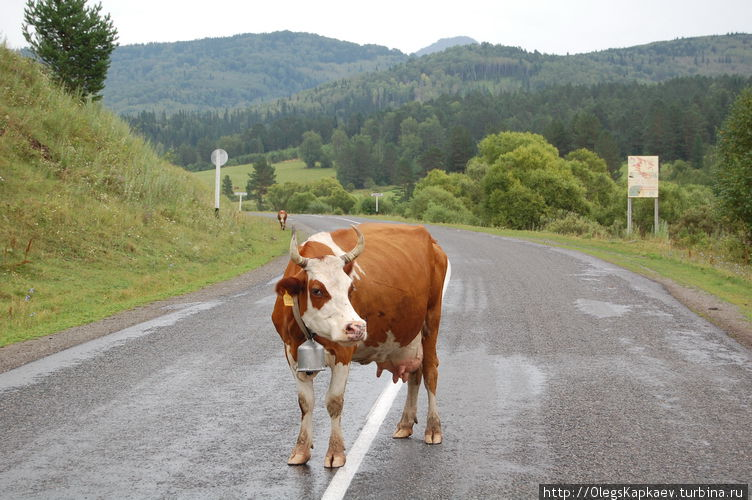inek: (269, 221, 485, 483)
